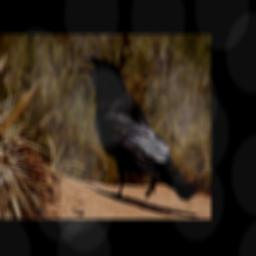Crow: (78, 55, 199, 201)
